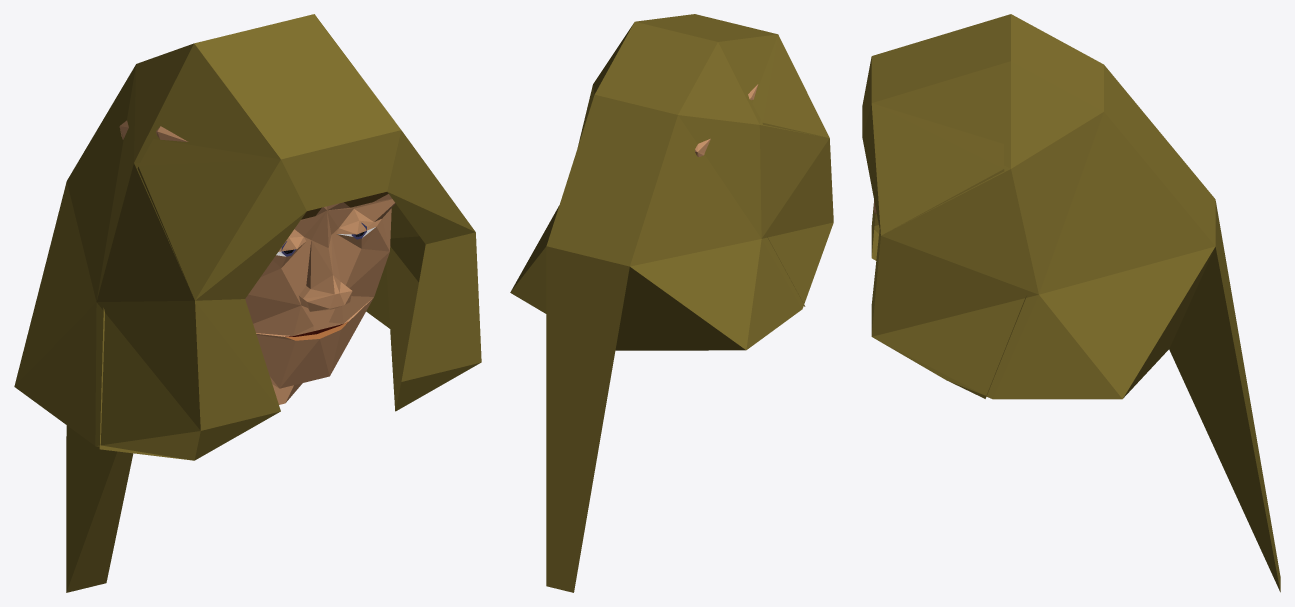
File: model_47_npc_head.obj
The picture shows the model from 3 angles, left to right: view 1: azimuth 30°, elevation 25°; view 2: azimuth 150°, elevation 25°; view 3: azimuth 270°, elevation 25°; orthographic projection. The views are drawn at different scales.
Parts seen in each view (by area): view 1: 47; view 2: 47; view 3: 47.
Part boxes in pixels (<box>): 47: <box>14,14,481,592</box>; 47: <box>510,14,833,592</box>; 47: <box>862,14,1280,592</box>.
Bounding box in the file's own units: 136 × 260 × 180.
